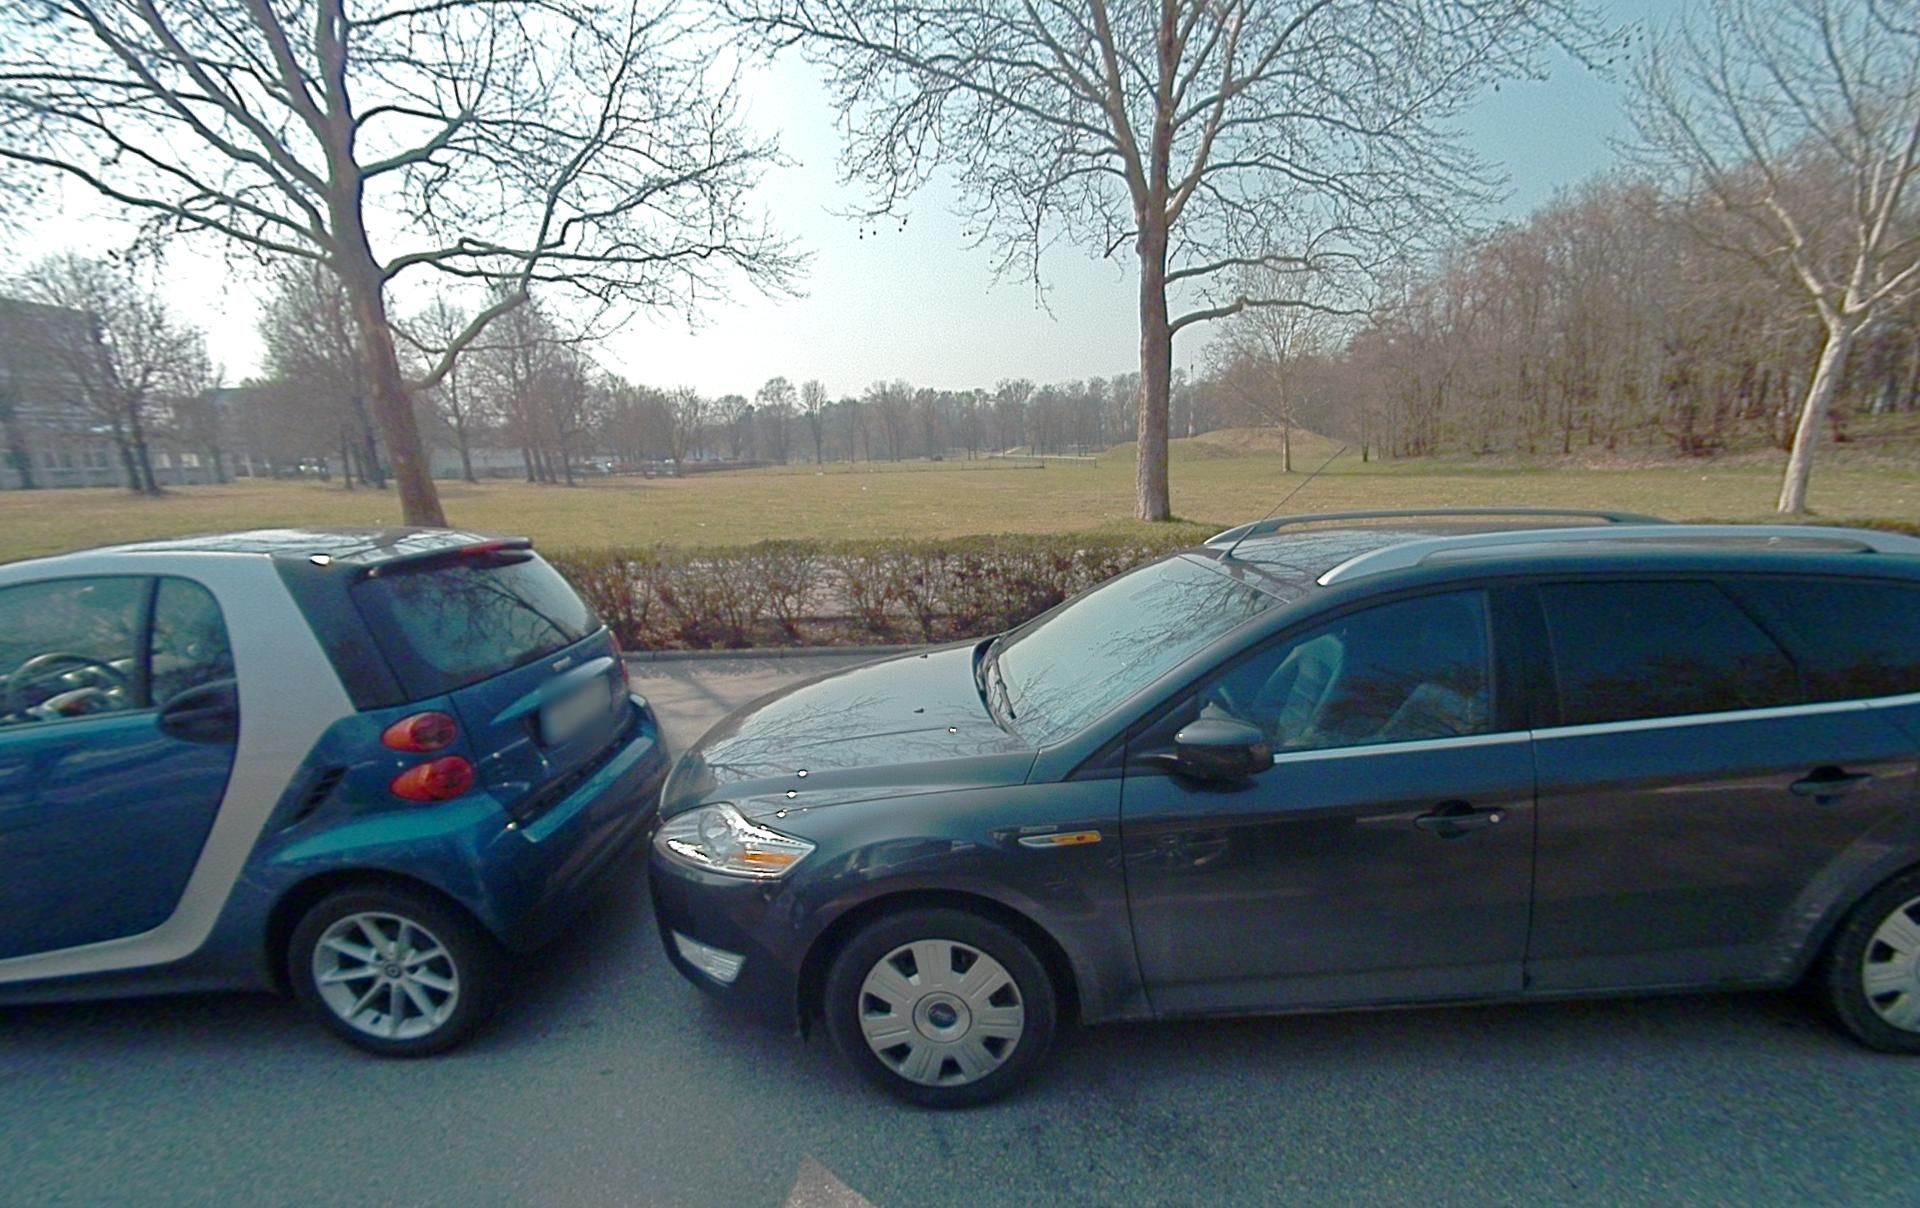car: (651, 511, 1919, 1105), (0, 527, 666, 1054)
